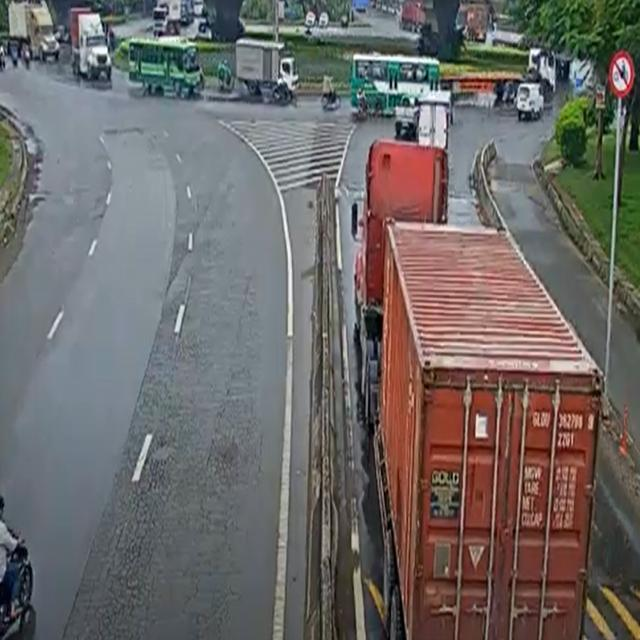bus: (341, 42, 448, 118), (122, 28, 205, 112)
car: (502, 72, 549, 125), (388, 82, 423, 144)
motor: (316, 64, 346, 116)
truck: (343, 140, 604, 640), (434, 28, 563, 102), (230, 32, 302, 108), (57, 1, 111, 86), (2, 1, 62, 73), (416, 94, 454, 152)
